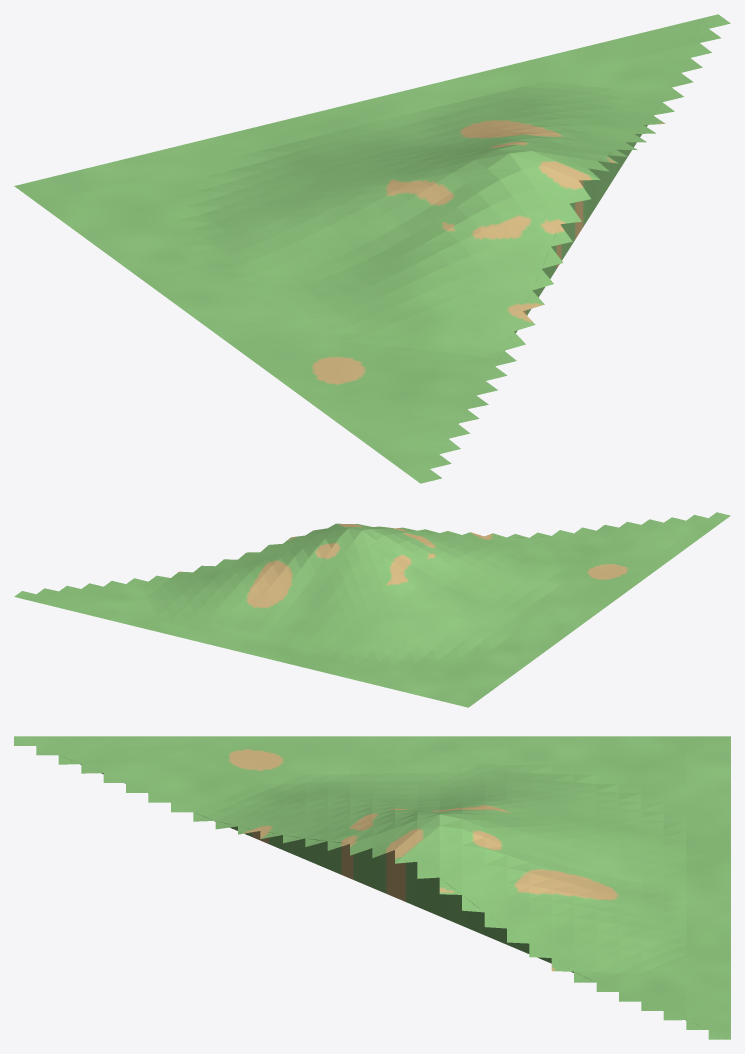
The model's file is Grass_Hills_01_SW.obj.
The picture shows the model from 3 angles, top to bottom: view 1: azimuth 30°, elevation 25°; view 2: azimuth 150°, elevation 25°; view 3: azimuth 270°, elevation 25°; orthographic projection. The views are drawn at different scales.
Bounding box in the file's own units: 10 × 0.9898 × 10.
Materials: 1 (1 with a texture image).
